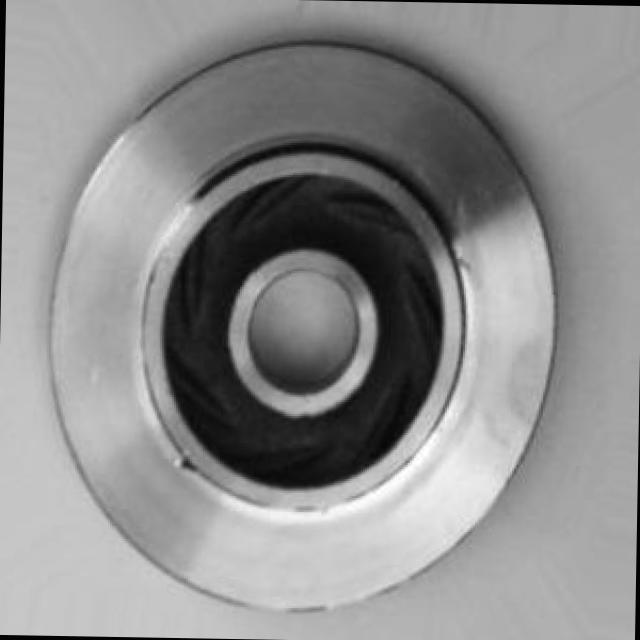Defect: (171, 451, 201, 481)
